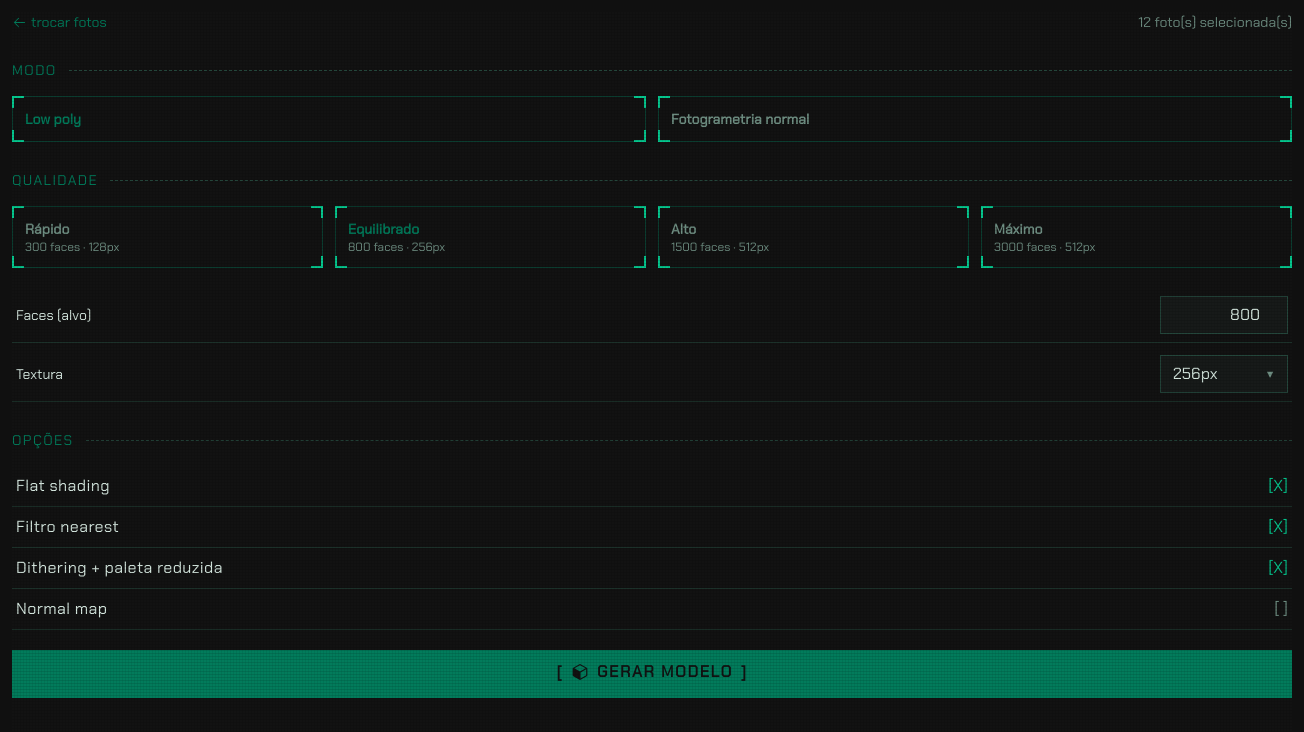
mostra modo low poly e troca preset atualizando faces
Expected: the text "Modo" is shown, x1=12 y1=60 x2=57 y2=80
Expected: the button "Low poly" is shown, x1=12 y1=96 x2=646 y2=142
Click the button "Alto 1500 faces · 512px" at (814, 237), box x1=658 y1=206 x2=969 y2=268
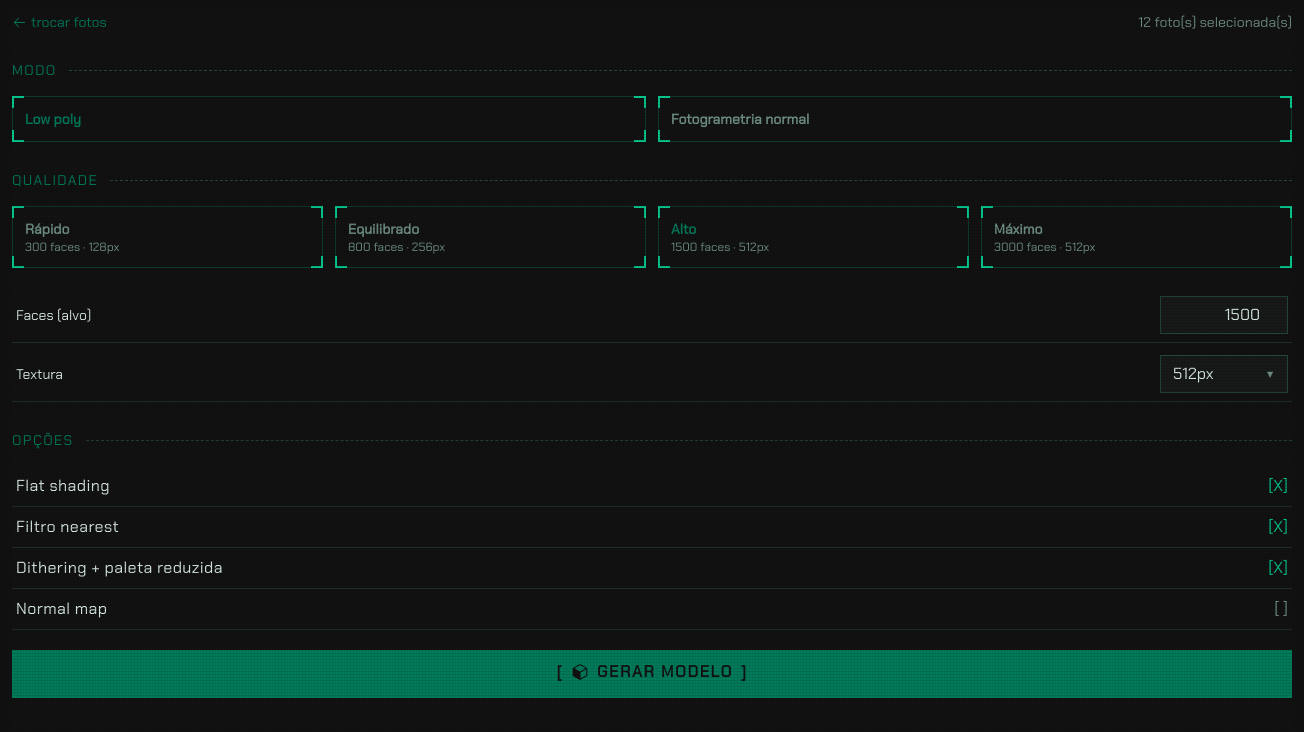
Expected: the number field labelled "Faces (alvo)" holds "1500", x1=1160 y1=296 x2=1288 y2=334
